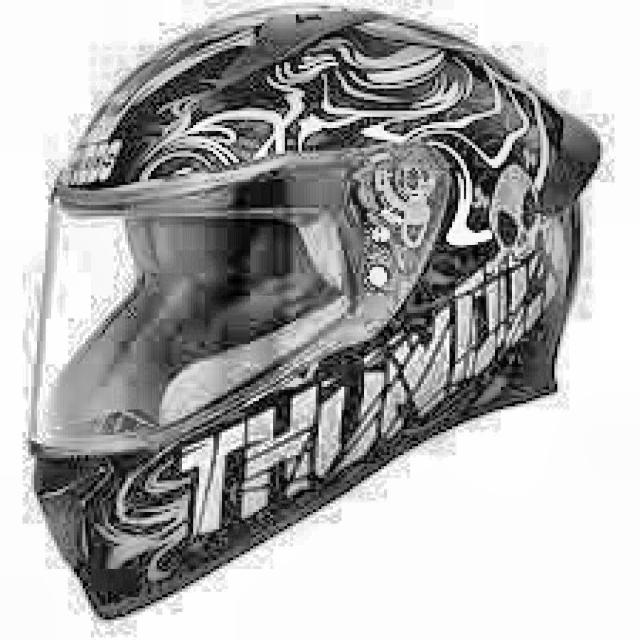Helmet: (23, 2, 602, 640)
